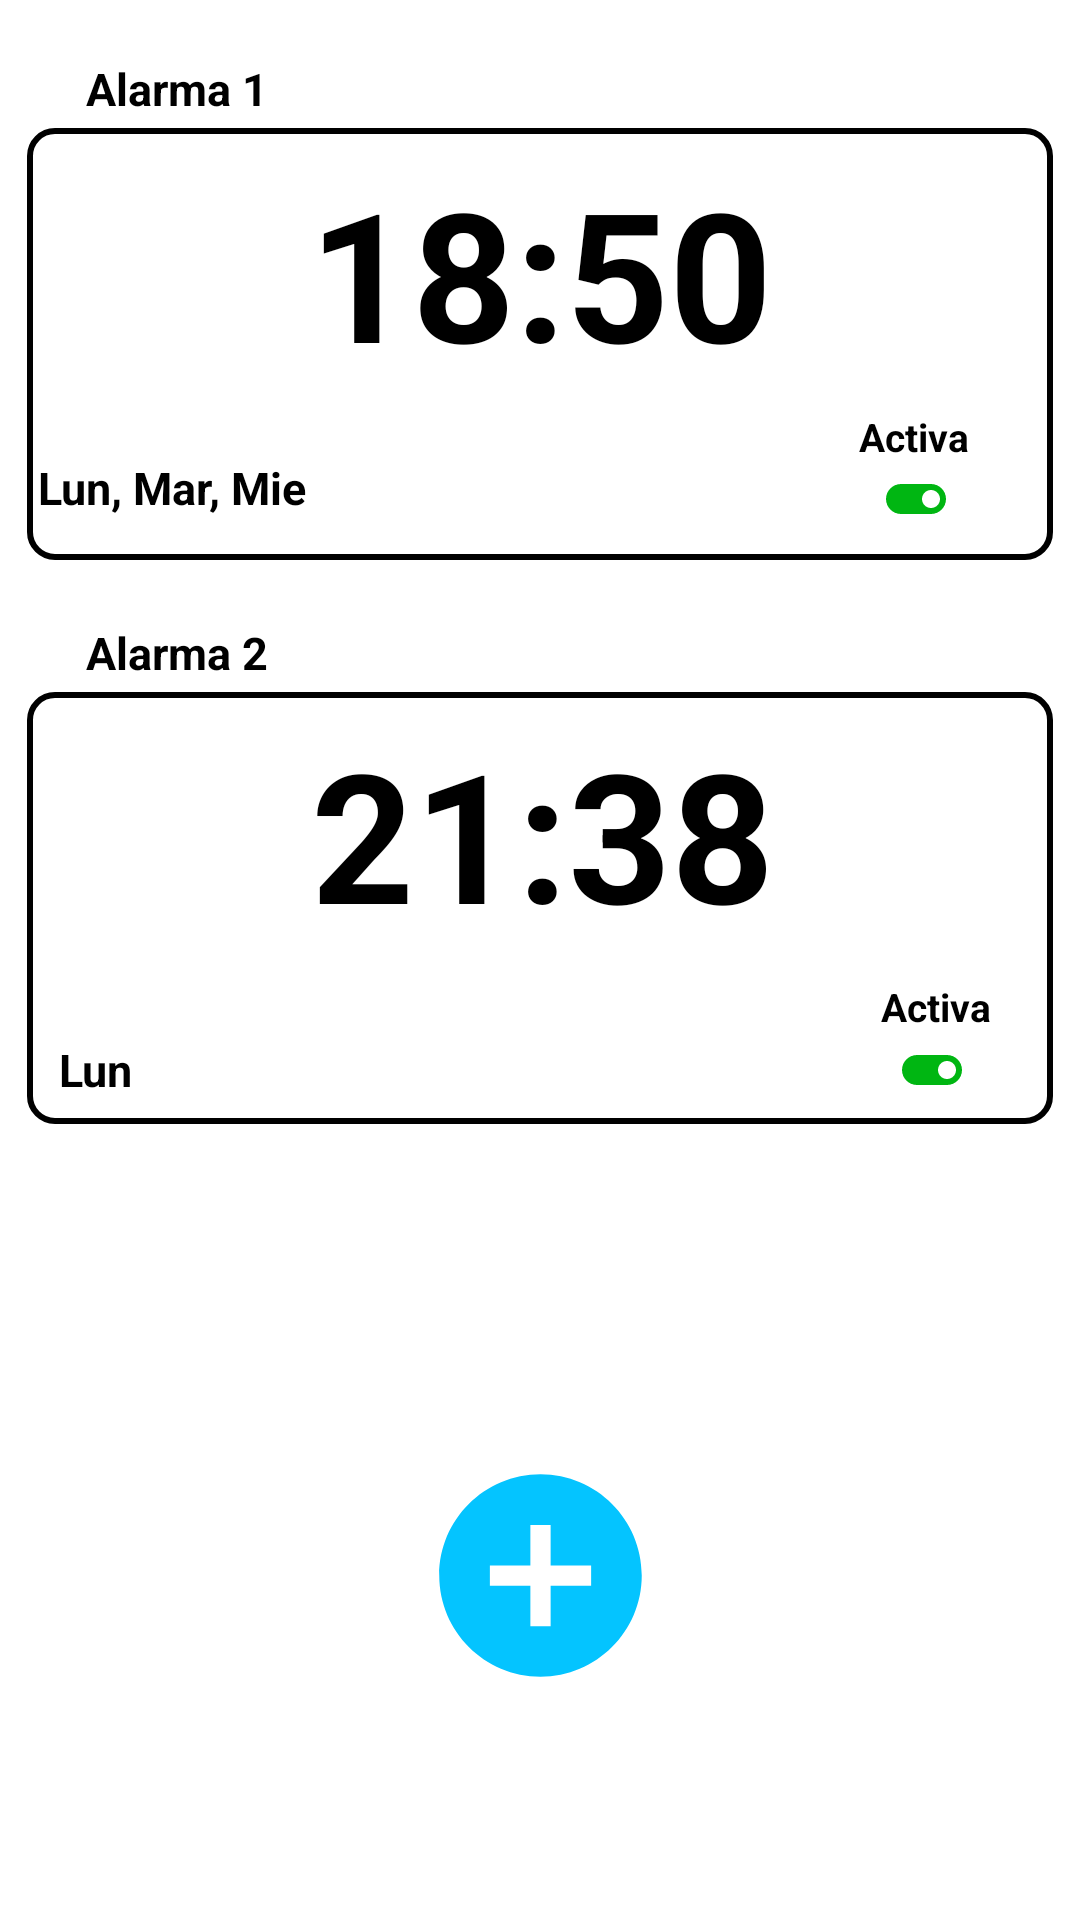

Point at icon controls on the screen. Image size 1080*1920, points as [x,y].
add circle: [540,1575]
